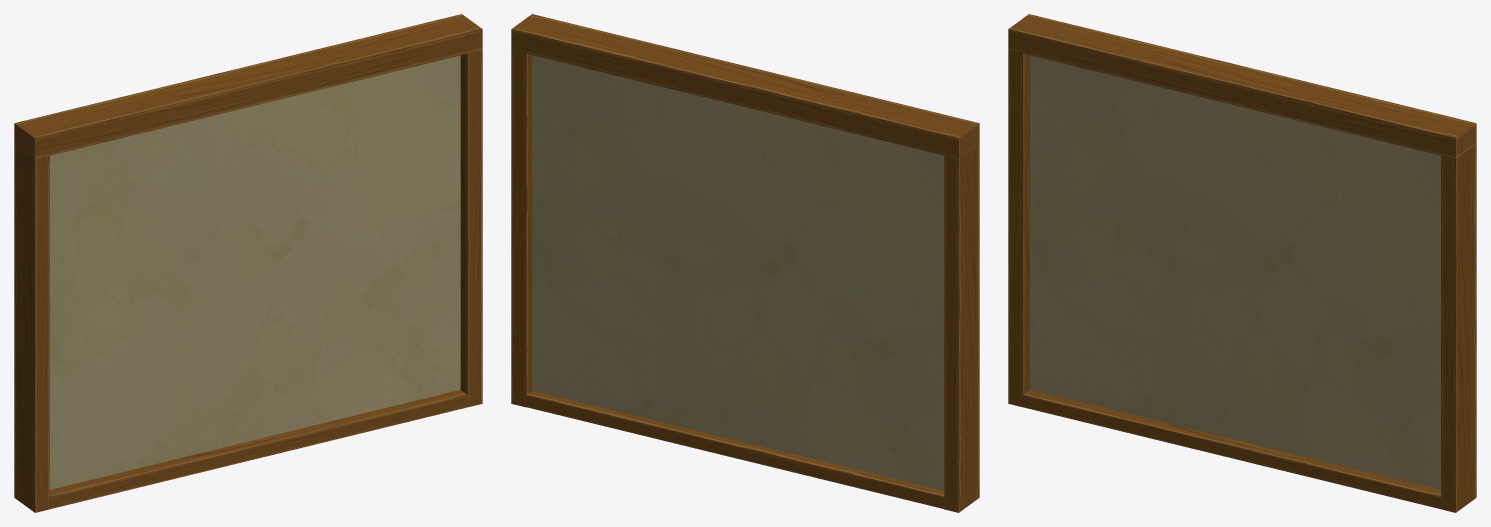
The model's file is SM_House_Wall_5x4_A_02.fbx.
3 renders of one model, left to right at view 1: azimuth 30°, elevation 25°; view 2: azimuth 150°, elevation 25°; view 3: azimuth 330°, elevation 25°, orthographic.
Parts seen in each view (by area): view 1: SM_House_Wall_5x4_A_02; view 2: SM_House_Wall_5x4_A_02; view 3: SM_House_Wall_5x4_A_02.
Part boxes in pixels (x1,y1,x2,y2): SM_House_Wall_5x4_A_02: [14, 14, 482, 512]; SM_House_Wall_5x4_A_02: [511, 14, 979, 512]; SM_House_Wall_5x4_A_02: [1008, 14, 1476, 512].
Bounding box in the file's own units: 5 × 4 × 0.4024.
